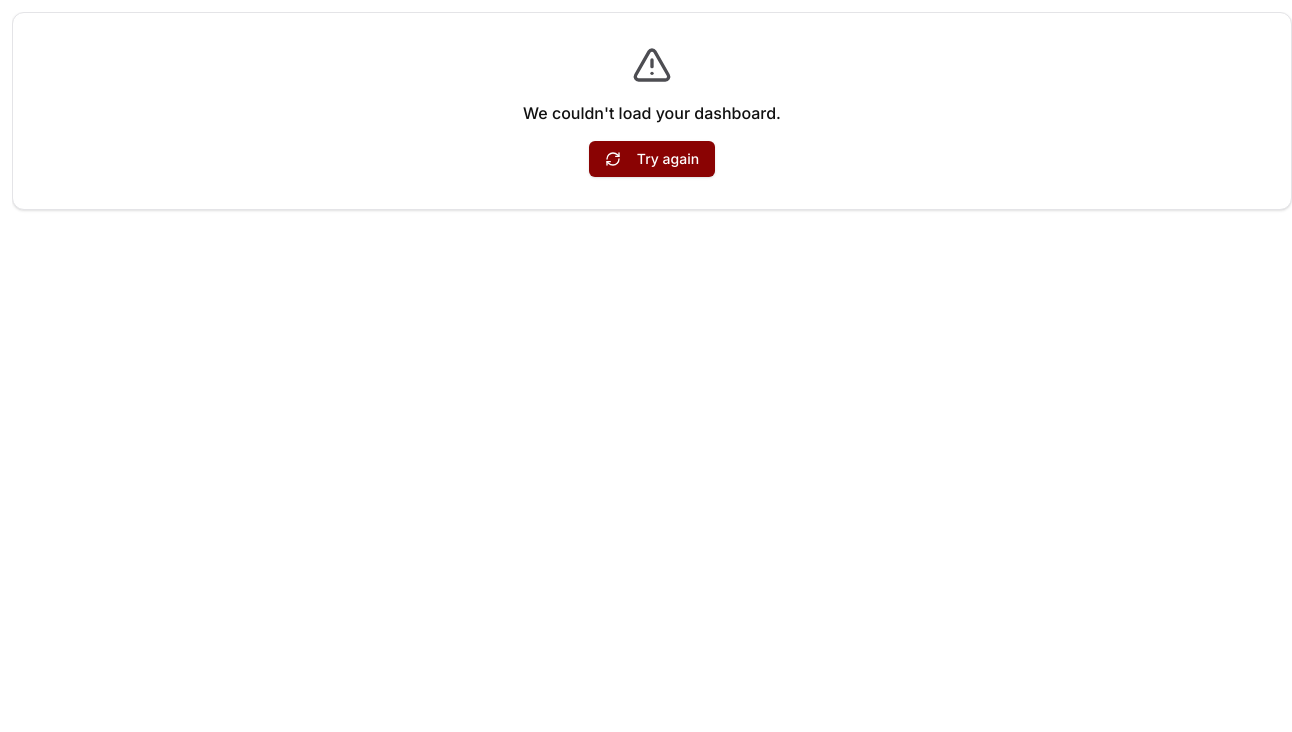
Test: a failed load shows an error with retry, not an empty account
Expected: the message "We couldn't load your dashboard. Try again" is shown, left=12, top=12, right=1291, bottom=210
Expected: the text "No contracts yet" is not shown
Click the button with test id "dashboard-retry".
click(652, 159)  # box left=589, top=141, right=715, bottom=177
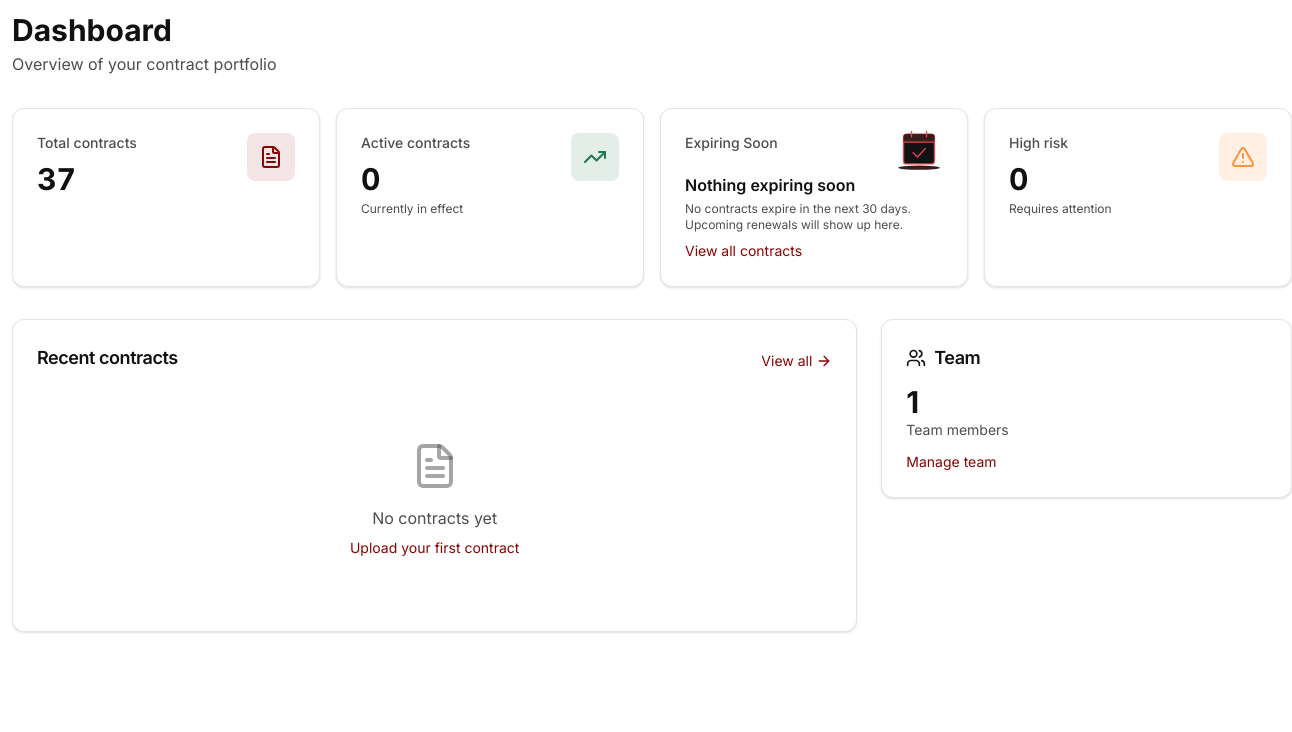
Expected: the message with test id "dashboard-load-error" is gone
Expected: the text "37" is shown, left=37, top=161, right=76, bottom=197
